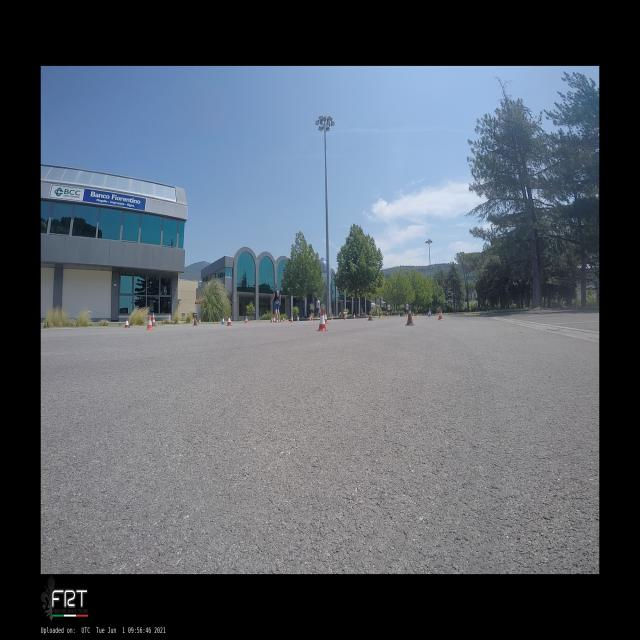blue_cone: (428, 309, 432, 317), (221, 316, 225, 324), (296, 315, 300, 322)
large_orange_cone: (152, 312, 157, 326), (368, 308, 373, 320)
orange_cone: (316, 309, 328, 331), (146, 314, 154, 330), (226, 315, 232, 326), (438, 308, 443, 320), (124, 318, 130, 328), (324, 312, 329, 324), (342, 312, 348, 320), (244, 316, 249, 324), (290, 315, 294, 323), (270, 315, 274, 323), (310, 314, 314, 322), (282, 316, 285, 322), (273, 316, 275, 323), (353, 313, 355, 319), (199, 319, 201, 325), (332, 316, 334, 320), (310, 315, 311, 321)
unknown_cone: (404, 307, 416, 326), (192, 316, 198, 326), (258, 318, 261, 322)
yellow_cone: (378, 310, 382, 320)
